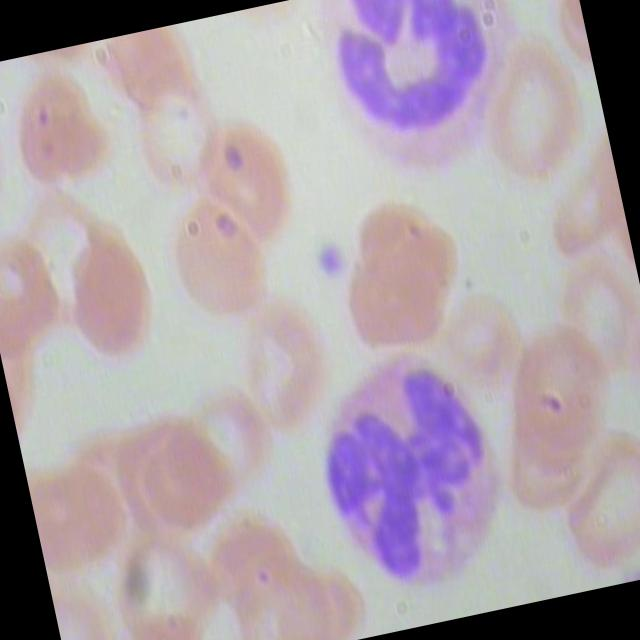Platelets: (314, 236, 355, 282)
WBC: (290, 334, 535, 616), (297, 0, 541, 196)
